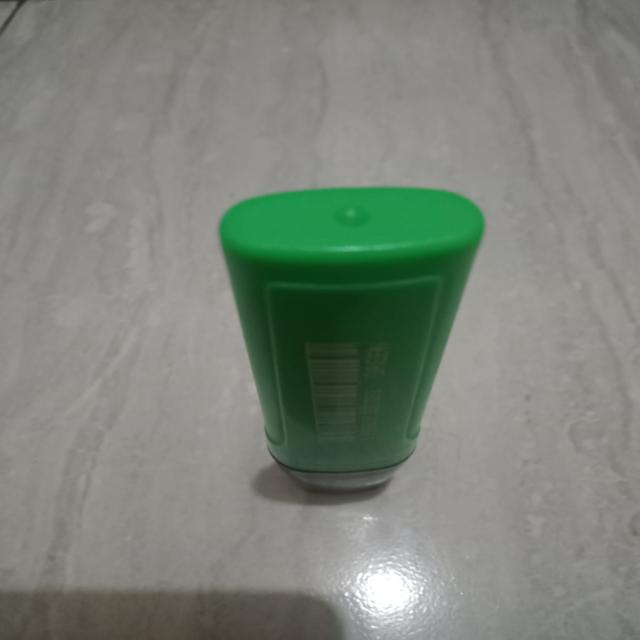highlighter: (130, 134, 554, 540)
